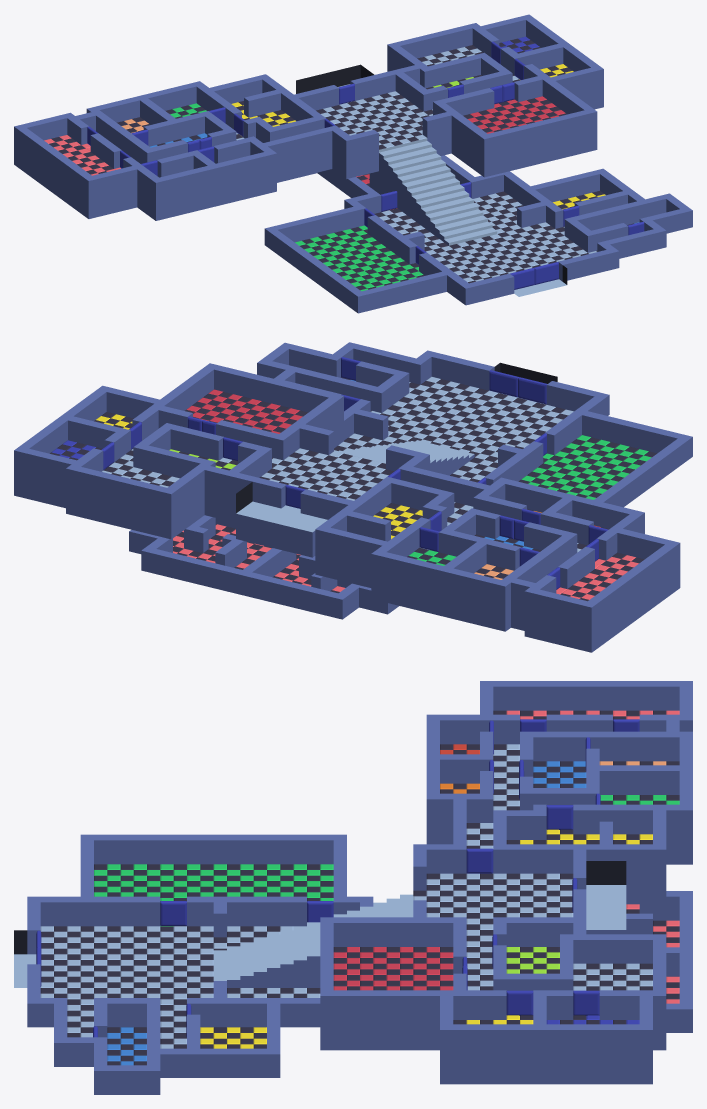
The model's file is test_tiles.fbx.
3 renders of one model, top to bottom at view 1: azimuth 30°, elevation 25°; view 2: azimuth 150°, elevation 25°; view 3: azimuth 270°, elevation 25°, orthographic. The views are drawn at different scales.
Visible parts, largest first — view 1: Floor02_GhostWalls, Floor02_Walls, Floor01_GhostWalls, Floor01, Floor02, Floor01_Walls, Floor02_ExtBounds; view 2: Floor02_GhostWalls, Floor02_Walls, Floor01_GhostWalls, Floor01, Floor02, Floor01_Walls, Gate.L, Gate.R, Floor01_ExtBounds; view 3: Floor02_GhostWalls, Floor01, Floor02_Walls, Floor02, Floor01_GhostWalls, Floor01_Walls, Floor02_ExtBounds, Door.000, Door.008, Door.007, Door.001, Door.013.
Part boxes in pixels (box(x1,y1,x2,y2)): Floor02_GhostWalls: box(14, 14, 603, 220); Floor02_Walls: box(72, 29, 563, 177); Floor01_GhostWalls: box(264, 155, 692, 313); Floor01: box(295, 173, 639, 296); Floor02: box(44, 36, 573, 194); Floor01_Walls: box(367, 171, 641, 275); Floor02_ExtBounds: box(296, 64, 374, 93); Floor02_GhostWalls: box(14, 363, 680, 652); Floor02_Walls: box(68, 403, 617, 593); Floor01_GhostWalls: box(129, 342, 692, 619); Floor01: box(173, 376, 656, 593); Floor02: box(50, 389, 644, 601); Floor01_Walls: box(184, 361, 581, 591); Gate.L: box(518, 377, 547, 404); Gate.R: box(489, 370, 518, 397); Floor01_ExtBounds: box(494, 362, 557, 383); Floor02_GhostWalls: box(320, 681, 692, 1084); Floor01: box(14, 864, 679, 1065); Floor02_Walls: box(426, 714, 679, 1024); Floor02: box(333, 710, 679, 1024); Floor01_GhostWalls: box(27, 834, 692, 1094); Floor01_Walls: box(94, 896, 679, 1048); Floor02_ExtBounds: box(586, 861, 626, 884); Door.000: box(466, 848, 493, 873); Door.008: box(506, 990, 533, 1015); Door.007: box(573, 990, 599, 1015); Door.001: box(546, 805, 573, 829); Door.013: box(160, 901, 186, 925).
Size of the model in its own units: 18788 by 2200 by 15455.
